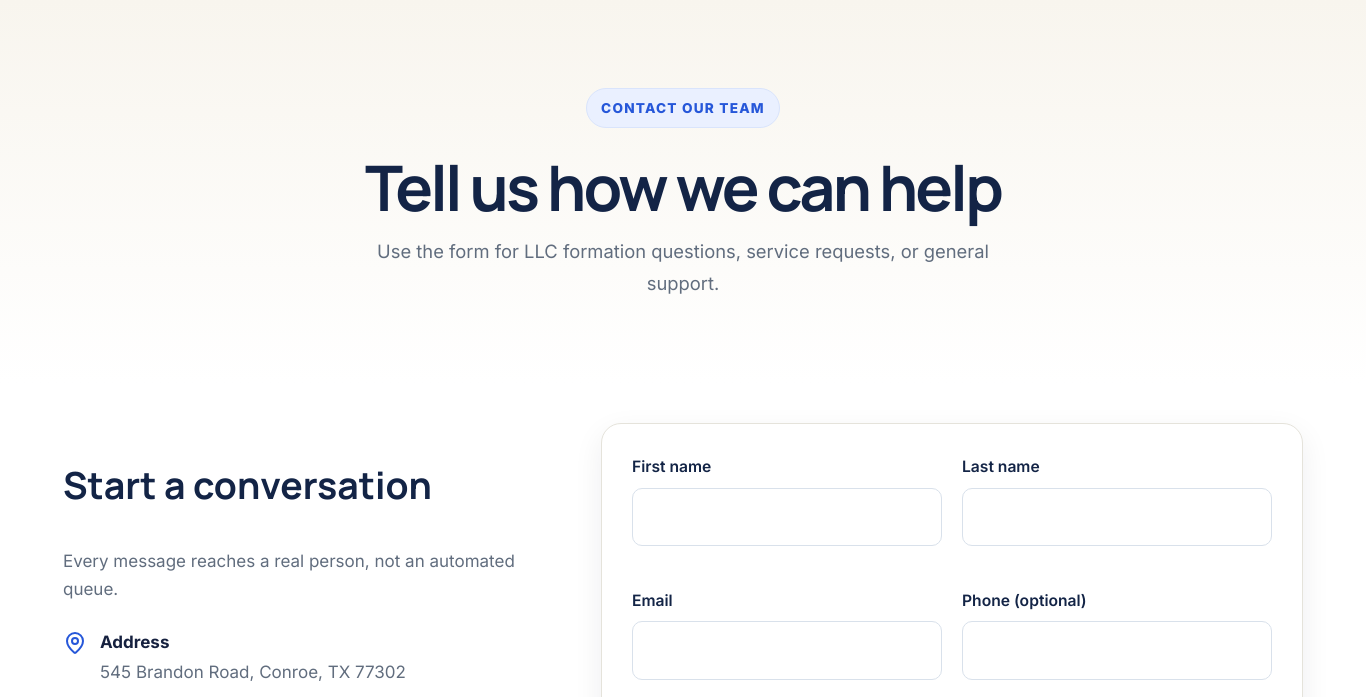
Contact page › rejects an invalid phone number when provided
The width and height of the screenshot is (1366, 697).
In the field labelled "Phone (optional)": (1117, 650) left=962, top=622, right=1272, bottom=680, type "12345"
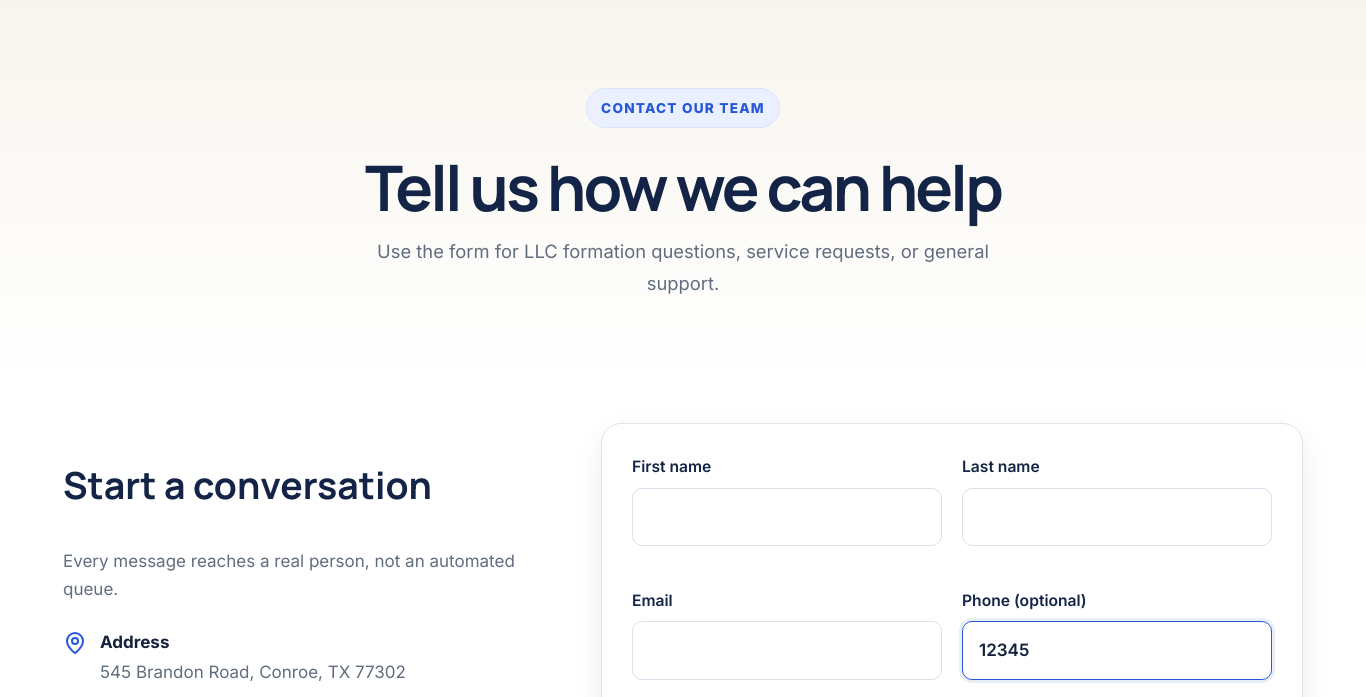
Press Tab
(page scrolled)
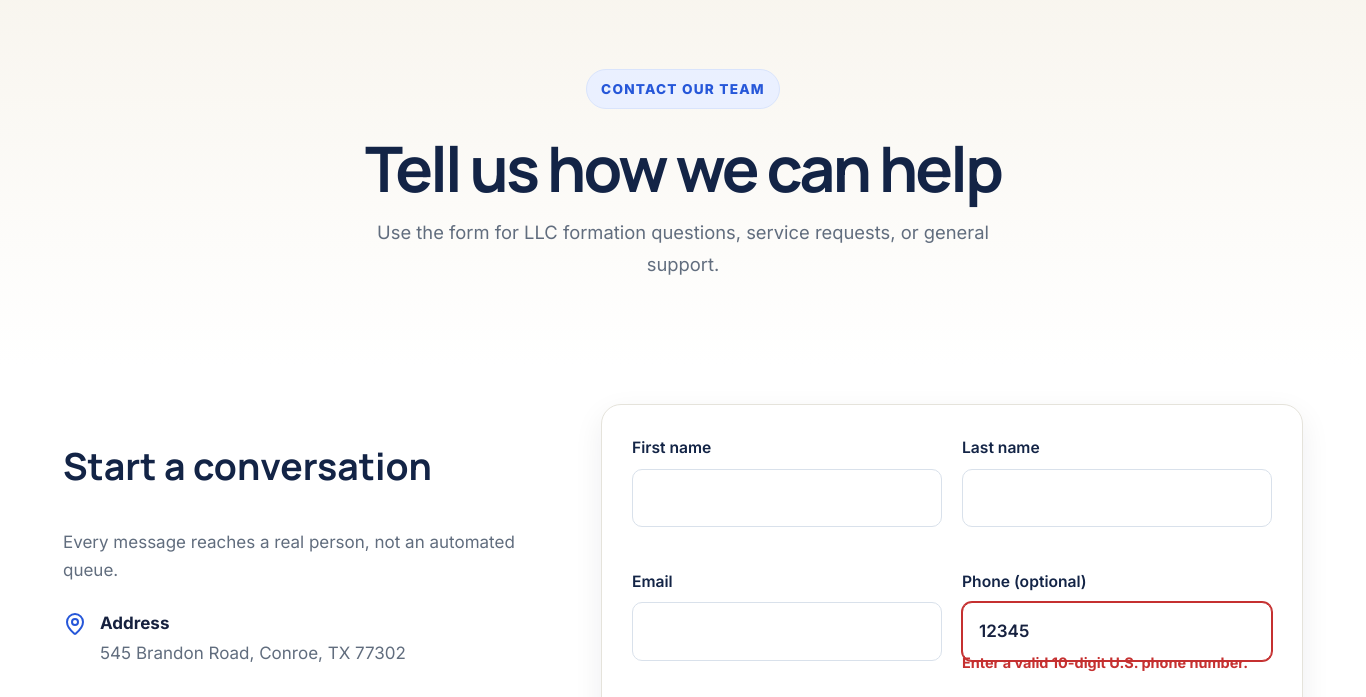
expect the text "Enter a valid 10-digit U.S. phone number." is shown: met, box left=962, top=650, right=1272, bottom=675
